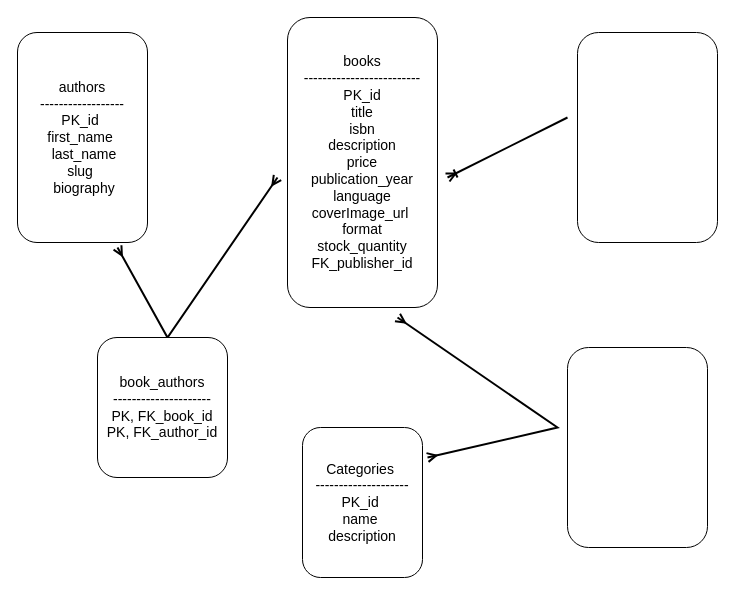
The diagram is 735 pixels wide and 595 high, and some of its shapes have lost their labels. The centre of each missing label's shape, as x and y in pixels:
book_categories ---------------------- PK, FK_book_id PK, FK_category_id: [637,447]
publishers ------------------ PK_id name country website_url: [647,137]
